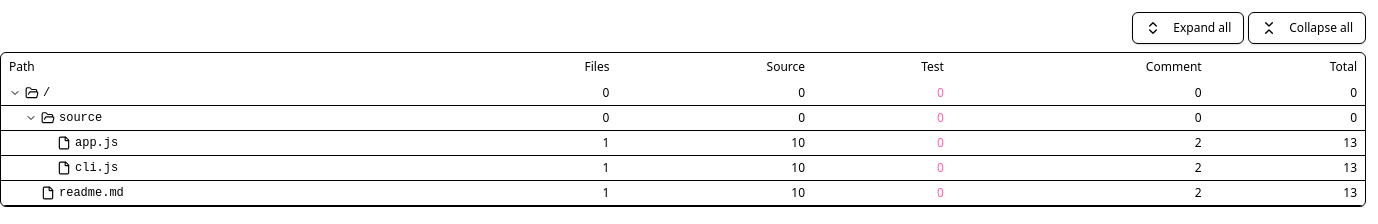
Test case: directoryTree › renders direct file children of a file-only directory and lets the user toggle them
Expected: the text "source" is shown, [59,110,102,126]
Expected: the text "app.js" is shown, [75,135,118,151]
Click the button "source" at (81, 118), box [9,110,462,126]
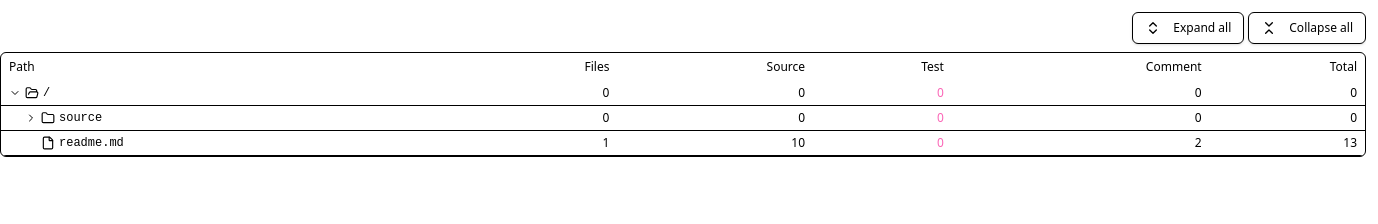
Result: the text "app.js" is gone
Result: the text "cli.js" is gone
// And re-expanding brings them back.
Click the button "source" at (81, 118), box [9,110,462,126]
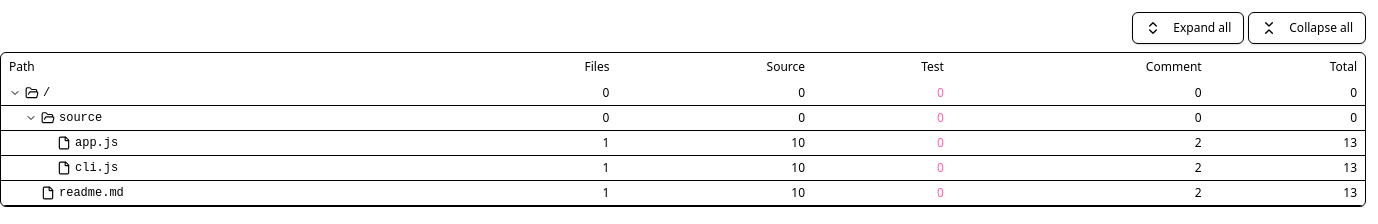
Result: the text "app.js" is shown at [75,135,118,151]
Result: the text "cli.js" is shown at [75,160,118,176]
